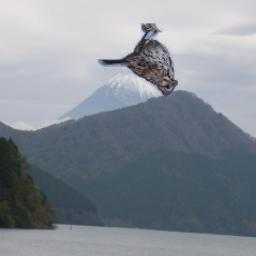Sparrow: (99, 23, 179, 97)
